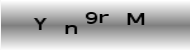9: (83, 11, 98, 25)
M: (125, 11, 146, 26)
Y: (34, 16, 47, 31)
n: (64, 24, 79, 35)
r: (98, 12, 110, 24)
